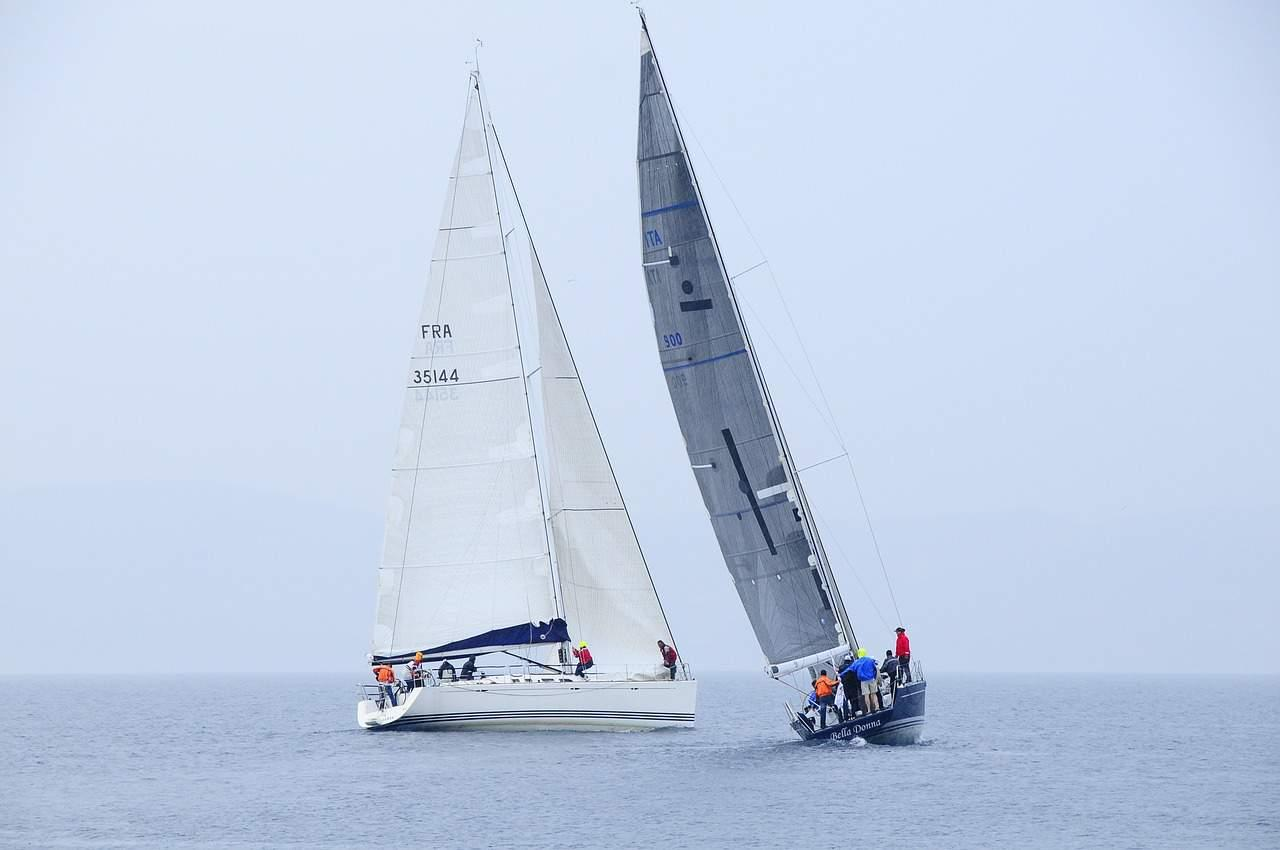Ship: (356, 55, 699, 735), (638, 9, 928, 749)
